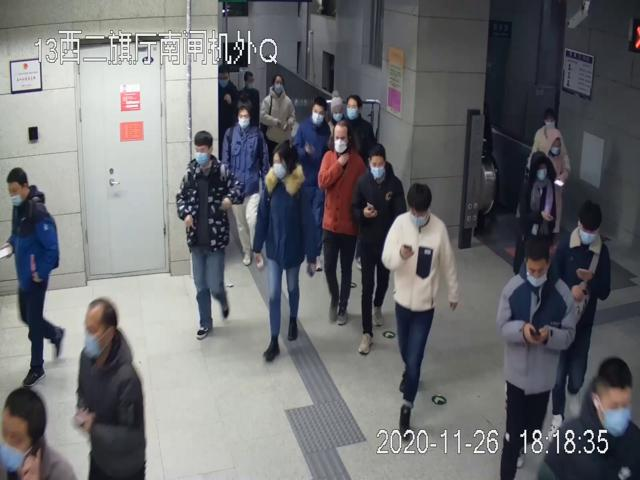person: (495, 232, 578, 480), (381, 183, 460, 427), (176, 129, 245, 344), (0, 167, 65, 386), (252, 142, 317, 360), (550, 200, 609, 430), (76, 297, 148, 480), (352, 141, 407, 353), (318, 123, 366, 324), (222, 100, 269, 272), (292, 97, 331, 274)
